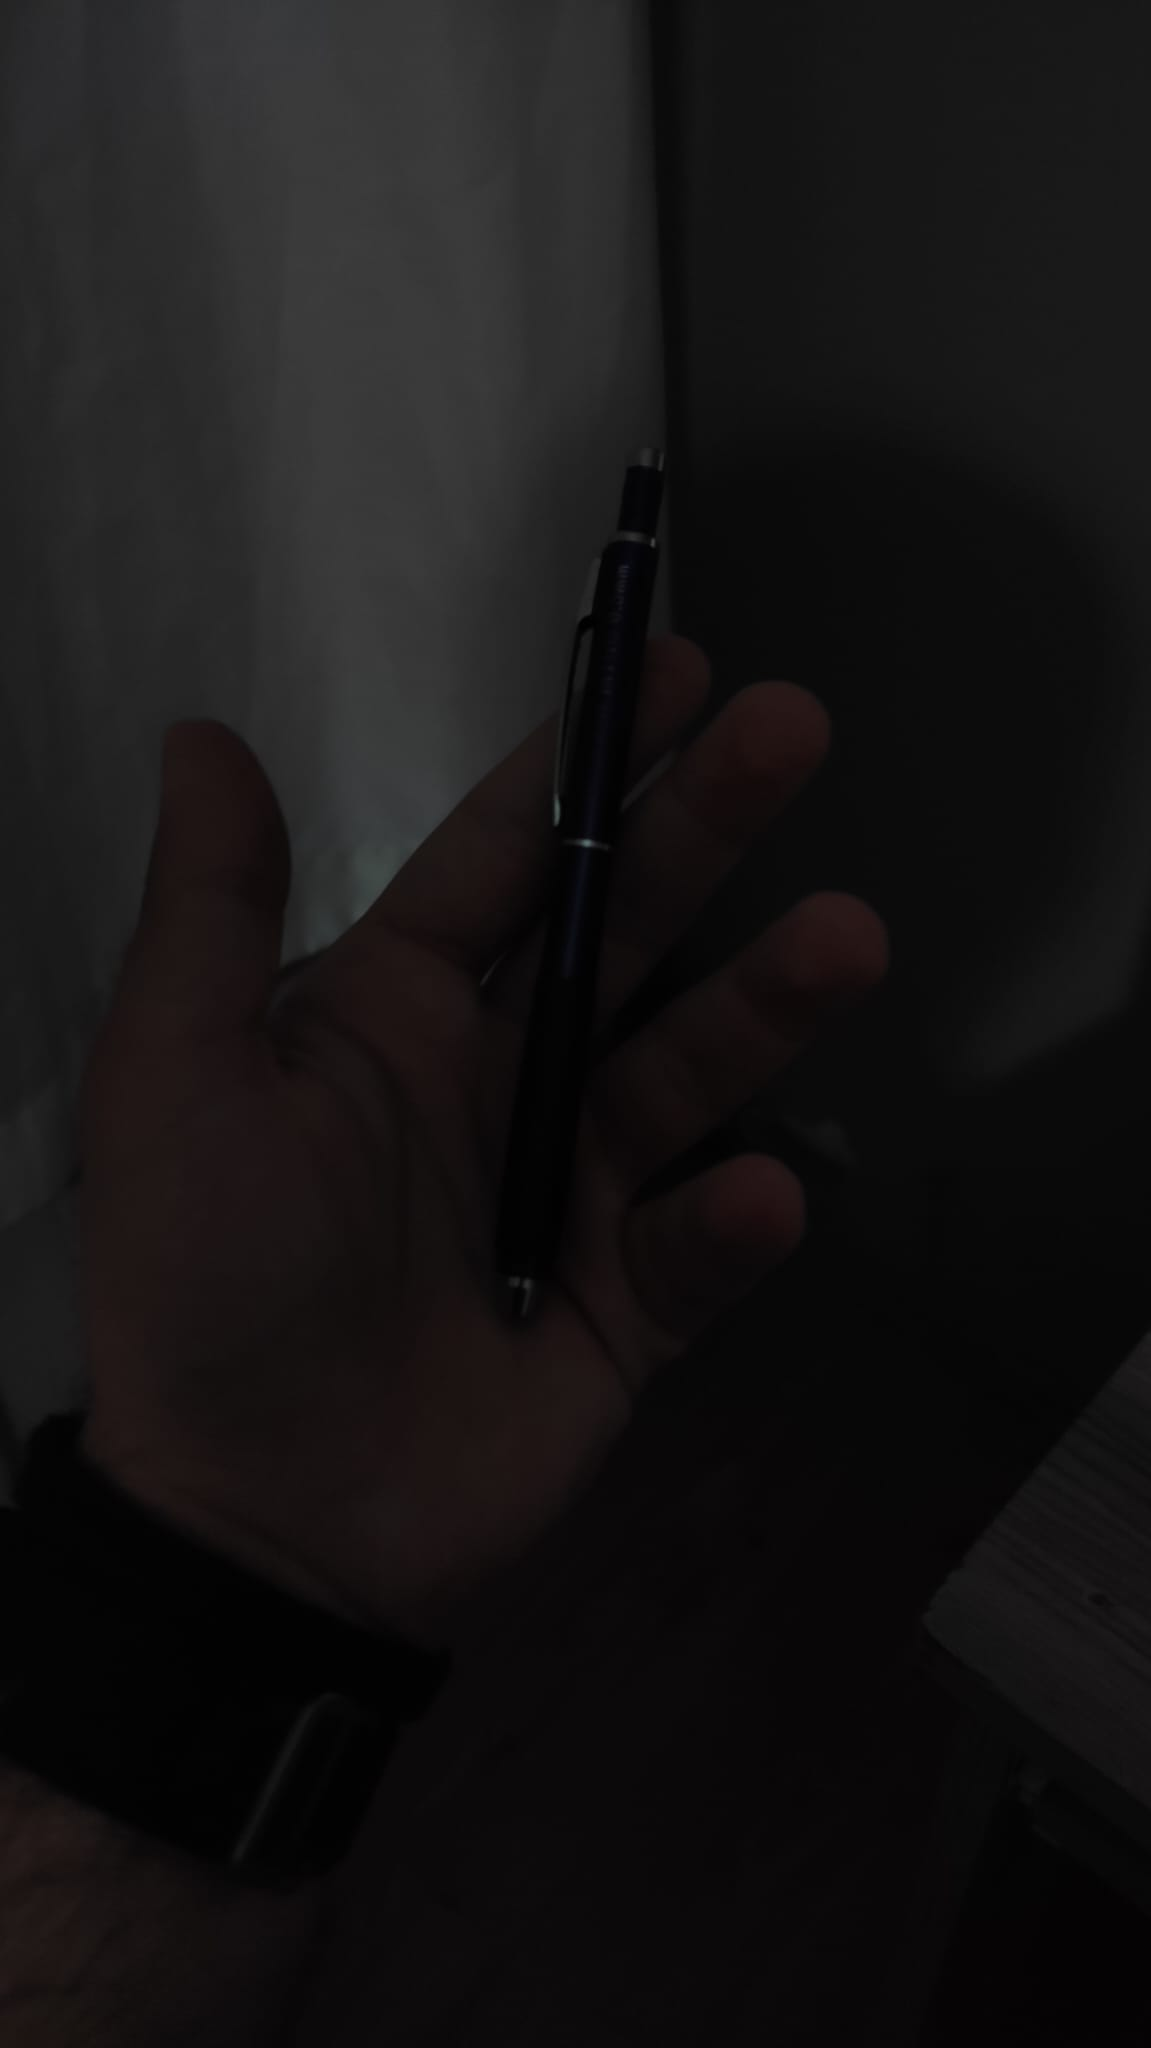kalem: (490, 433, 692, 1352)
